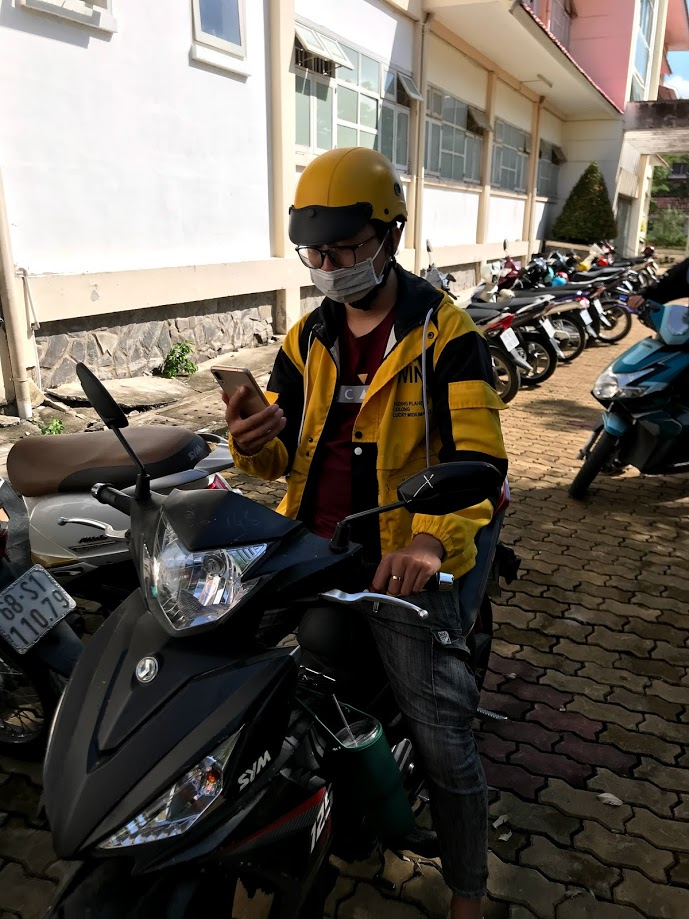dieu khien xe may: (41, 144, 439, 871)
su dung dien thoai: (208, 146, 405, 457)
